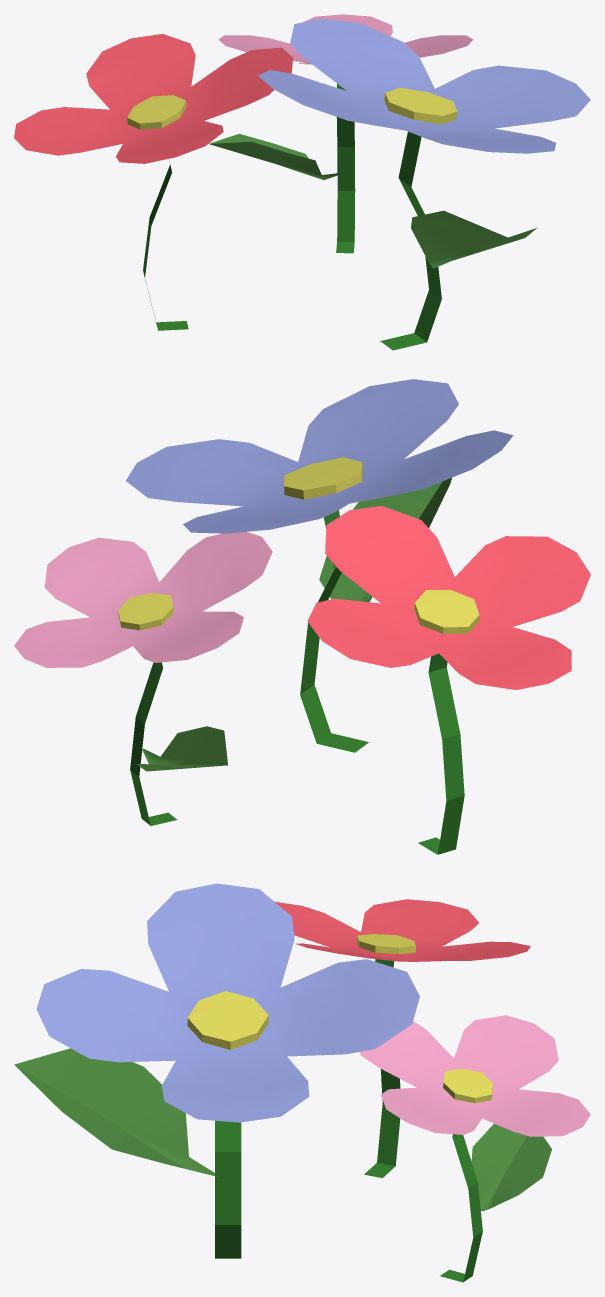
File: FLOWER_1.fbx
3 renders of one model, top to bottom at view 1: azimuth 30°, elevation 25°; view 2: azimuth 150°, elevation 25°; view 3: azimuth 270°, elevation 25°, orthographic. The views are drawn at different scales.
Visible parts, largest first — view 1: PETALE_2.002; view 2: PETALE_2.002; view 3: PETALE_2.002.
Part boxes in pixels (x1,y1,x2,y2): PETALE_2.002: (14, 14, 590, 350); PETALE_2.002: (14, 379, 590, 854); PETALE_2.002: (14, 883, 590, 1282).
Bounding box in the file's own units: 195 × 115 × 202.
